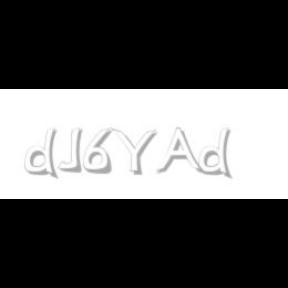6: (83, 128, 112, 176)
A: (155, 128, 203, 176)
J: (58, 128, 82, 172)
Y: (111, 128, 157, 176)
d: (24, 128, 62, 180), (198, 128, 235, 180)
